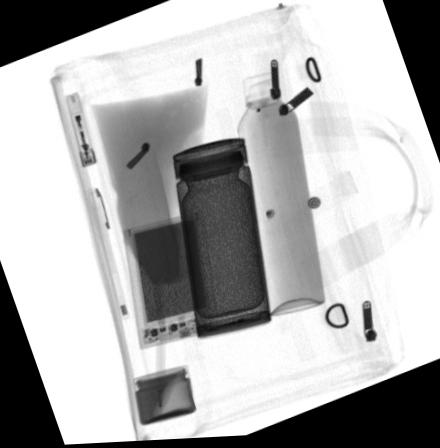Lighter: (63, 92, 96, 171)
Powerbank: (120, 213, 218, 352)
Sprayer: (234, 75, 325, 321)
